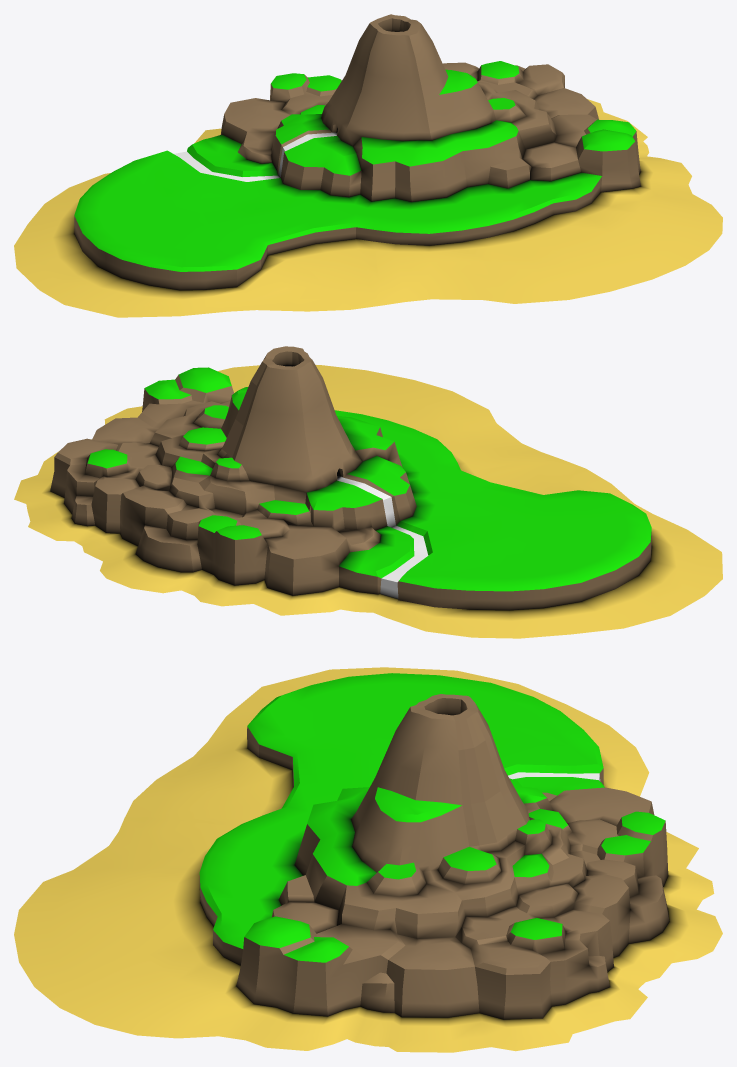
Rendered from island.fbx.
The picture shows the model from 3 angles, top to bottom: view 1: azimuth 30°, elevation 25°; view 2: azimuth 150°, elevation 25°; view 3: azimuth 270°, elevation 25°; orthographic projection. The views are drawn at different scales.
Parts seen in each view (by area): view 1: Main Island; view 2: Main Island; view 3: Main Island.
Part boxes in pixels (x1,y1,x2,y2): Main Island: (14, 14, 722, 317); Main Island: (14, 346, 722, 638); Main Island: (14, 667, 722, 1052).
Size of the model in its own units: 9758 by 2365 by 7587.
